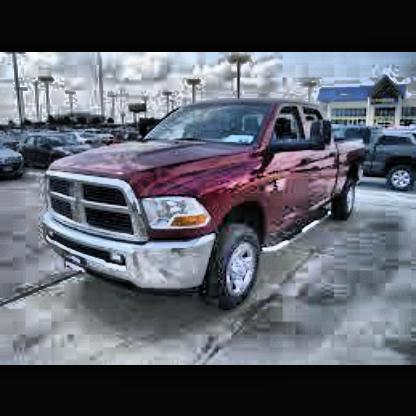Dodge Ram Pickup 3500 Crew Cab 2010: (49, 90, 373, 314)
